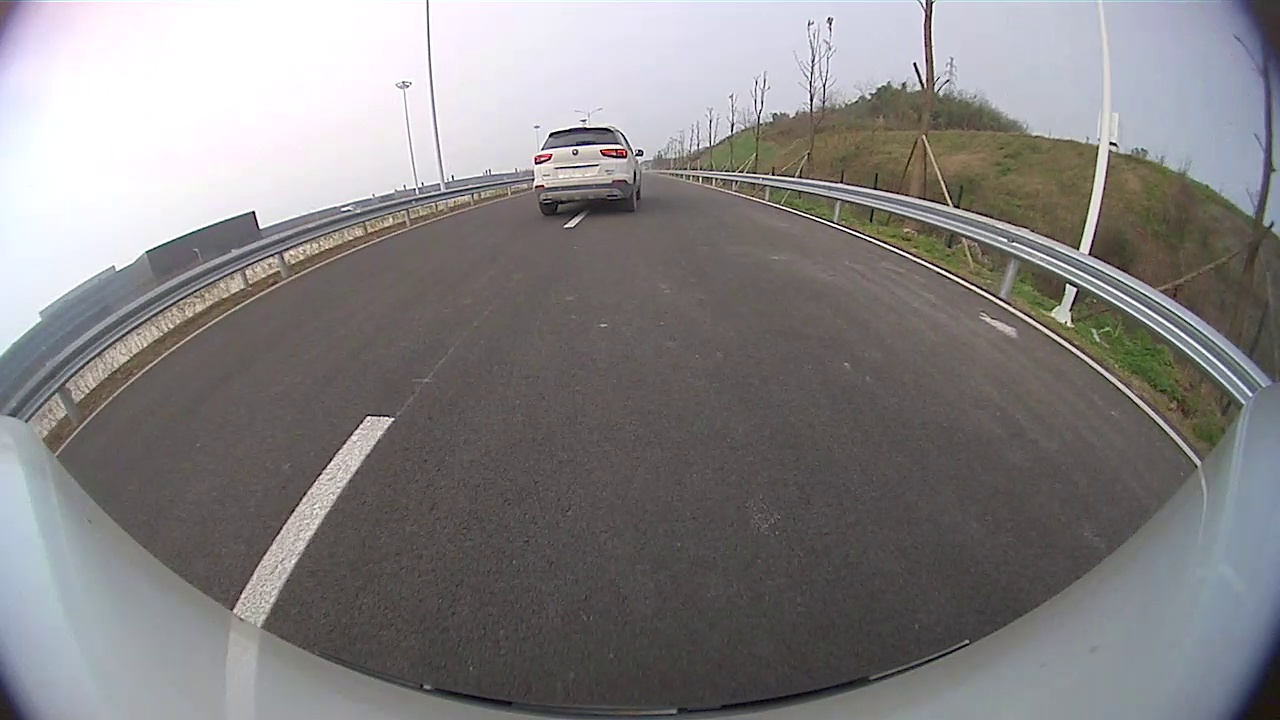car: (532, 125, 643, 219)
